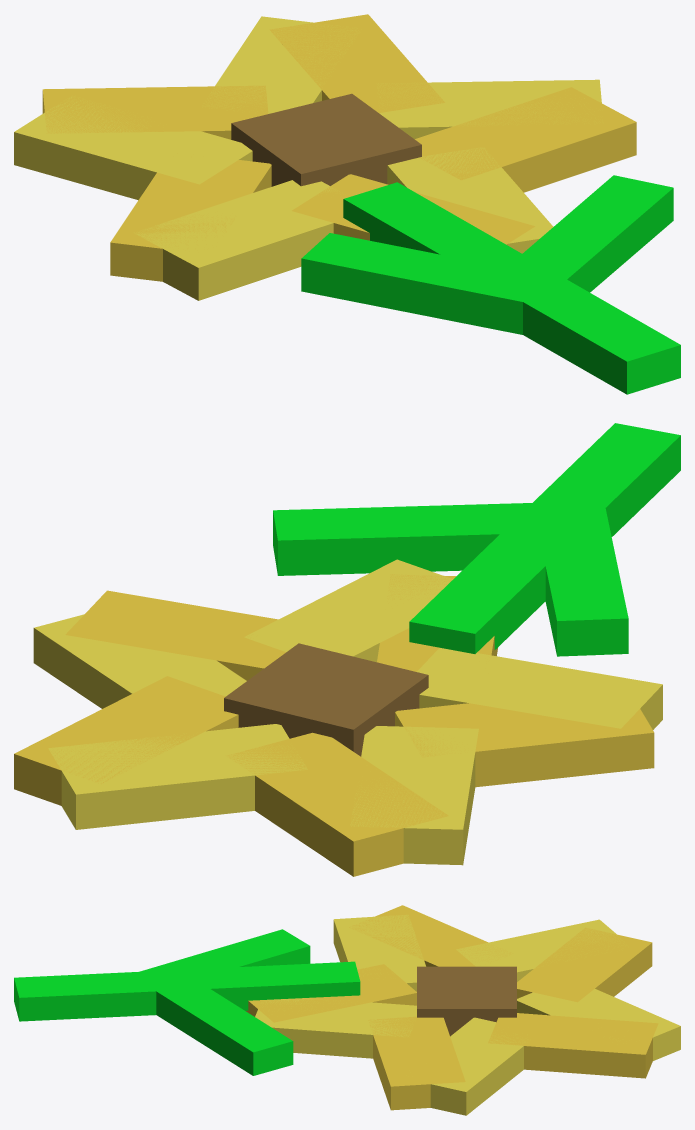
Rendered from flower.dae.
3 renders of one model, top to bottom at view 1: azimuth 30°, elevation 25°; view 2: azimuth 150°, elevation 25°; view 3: azimuth 270°, elevation 25°, orthographic. The views are drawn at different scales.
Visible parts, largest first — view 1: Cube.031, Cube.032, Cube.012, Cube.016, Cube.014, Cube, Cube.013, Cube.035, Cube.015, Cube.017, Cube.010, Cube.011 (+2 smaller); view 2: Cube.031, Cube.018, Cube.013, Cube.035, Cube, Cube.017, Cube.016, Cube.014, Cube.015, Cube.032, Cube.010, Cube.012 (+2 smaller); view 3: Cube.031, Cube.015, Cube.035, Cube.012, Cube.013, Cube, Cube.010, Cube.011, Cube.016, Cube.017, Cube.032, Cube.018 (+2 smaller).
Boxes of the visible parts, left/top/right/bottom form: Cube.031: left=343, top=182, right=680, bottom=394; Cube.032: left=301, top=233, right=553, bottom=334; Cube.012: left=415, top=87, right=636, bottom=192; Cube.016: left=134, top=180, right=340, bottom=300; Cube.014: left=14, top=96, right=252, bottom=200; Cube: left=231, top=93, right=421, bottom=186; Cube.013: left=42, top=85, right=268, bottom=139; Cube.035: left=511, top=175, right=673, bottom=292; Cube.015: left=269, top=14, right=444, bottom=112; Cube.017: left=110, top=153, right=271, bottom=281; Cube.010: left=387, top=147, right=553, bottom=253; Cube.011: left=377, top=79, right=601, bottom=139; Cube.031: left=409, top=423, right=680, bottom=653; Cube.018: left=48, top=724, right=307, bottom=829; Cube.013: left=227, top=732, right=448, bottom=876; Cube.035: left=273, top=503, right=541, bottom=575; Cube: left=224, top=643, right=428, bottom=756; Cube.017: left=395, top=703, right=654, bottom=787; Cube.016: left=417, top=648, right=662, bottom=729; Cube.014: left=350, top=726, right=478, bottom=865; Cube.015: left=14, top=676, right=238, bottom=805; Cube.032: left=534, top=506, right=628, bottom=656; Cube.010: left=244, top=559, right=452, bottom=662; Cube.012: left=65, top=590, right=285, bottom=680; Cube.031: left=14, top=961, right=360, bottom=1021; Cube.015: left=488, top=1013, right=658, bottom=1078; Cube.035: left=154, top=979, right=293, bottom=1075; Cube.012: left=368, top=1016, right=465, bottom=1110; Cube.013: left=517, top=927, right=652, bottom=1002; Cube: left=417, top=966, right=516, bottom=1036; Cube.010: left=255, top=998, right=416, bottom=1058; Cube.011: left=430, top=1017, right=527, bottom=1115; Cube.016: left=333, top=914, right=425, bottom=991; Cube.017: left=349, top=905, right=512, bottom=966; Cube.032: left=140, top=929, right=310, bottom=988; Cube.018: left=517, top=989, right=680, bottom=1060.
Bounding box in the file's own units: 1.02 × 1.53 × 0.1125.
